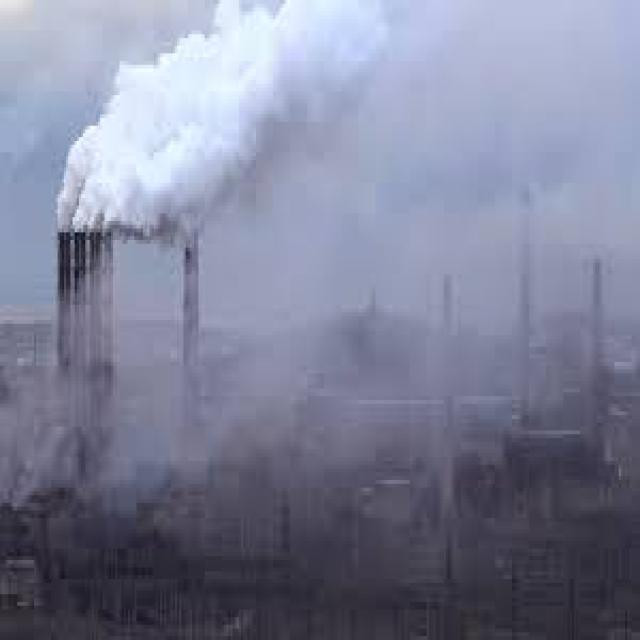Smoke: (55, 4, 382, 232)
